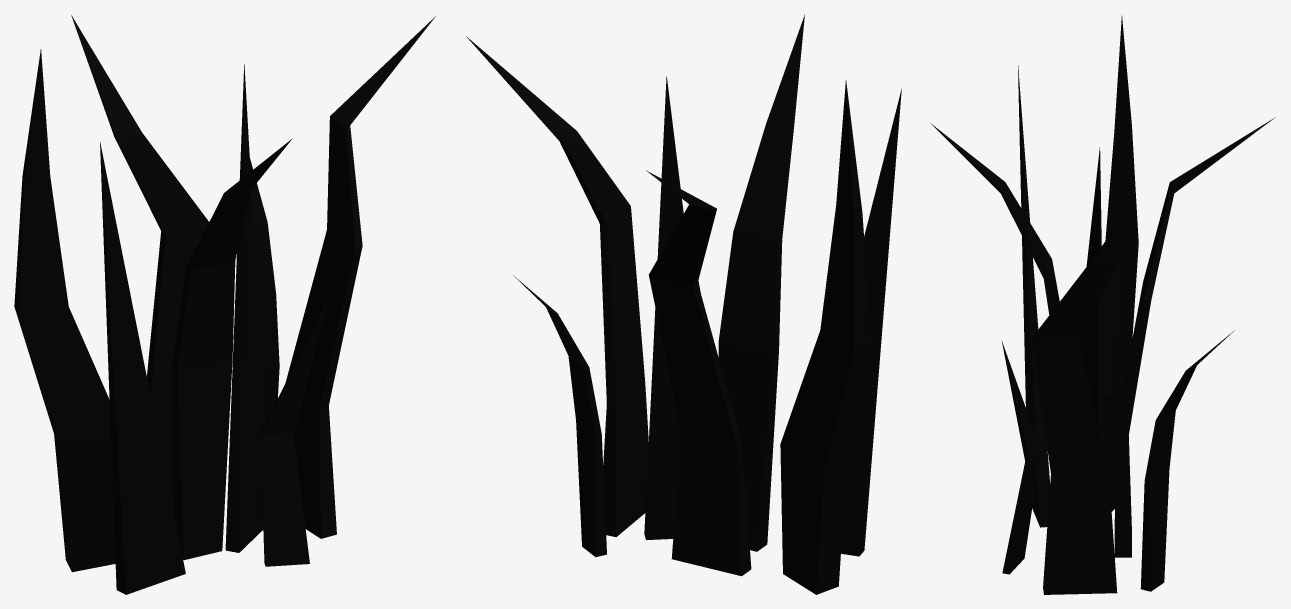
The model's file is grass_volume_dark.fbx.
The picture shows the model from 3 angles, left to right: view 1: azimuth 30°, elevation 25°; view 2: azimuth 150°, elevation 25°; view 3: azimuth 270°, elevation 25°; orthographic projection. The views are drawn at different scales.
Visible parts, largest first — view 1: Cube.013; view 2: Cube.013; view 3: Cube.013.
Boxes of the visible parts, left/top/right/bottom form: Cube.013: left=14, top=15, right=435, bottom=594; Cube.013: left=466, top=14, right=901, bottom=594; Cube.013: left=930, top=15, right=1275, bottom=594.
Bounding box in the file's own units: 21.26 × 25.69 × 17.08.
